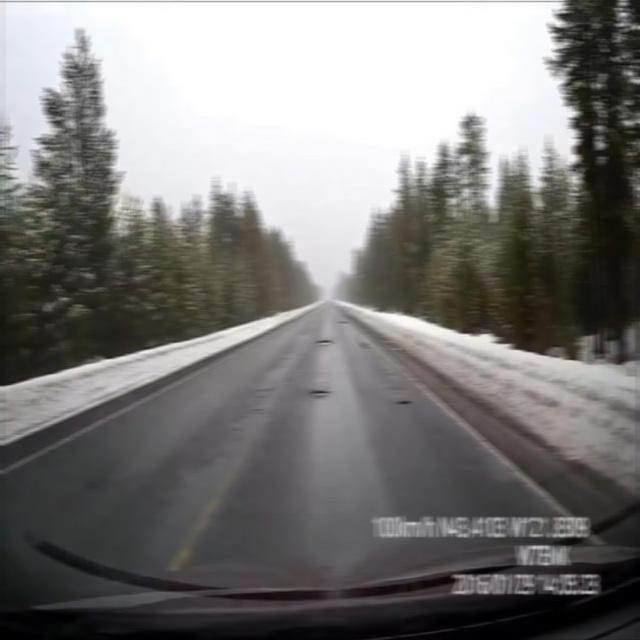Pothole: (305, 383, 338, 402), (310, 335, 340, 351), (392, 395, 416, 410), (358, 339, 372, 353), (334, 317, 352, 325)
